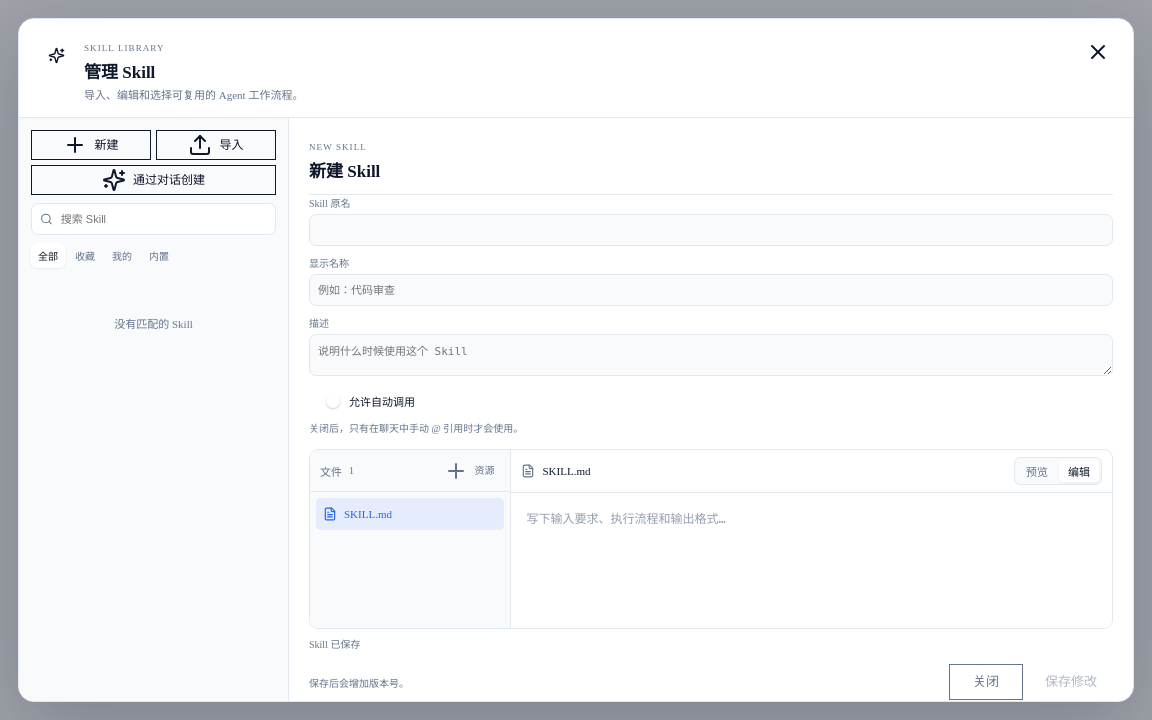
Test: SkillManager › replaces the folder entry with host conversation creation and reports failures
Click the button "通过对话创建": coordinates (154, 180) [31,165,276,195]
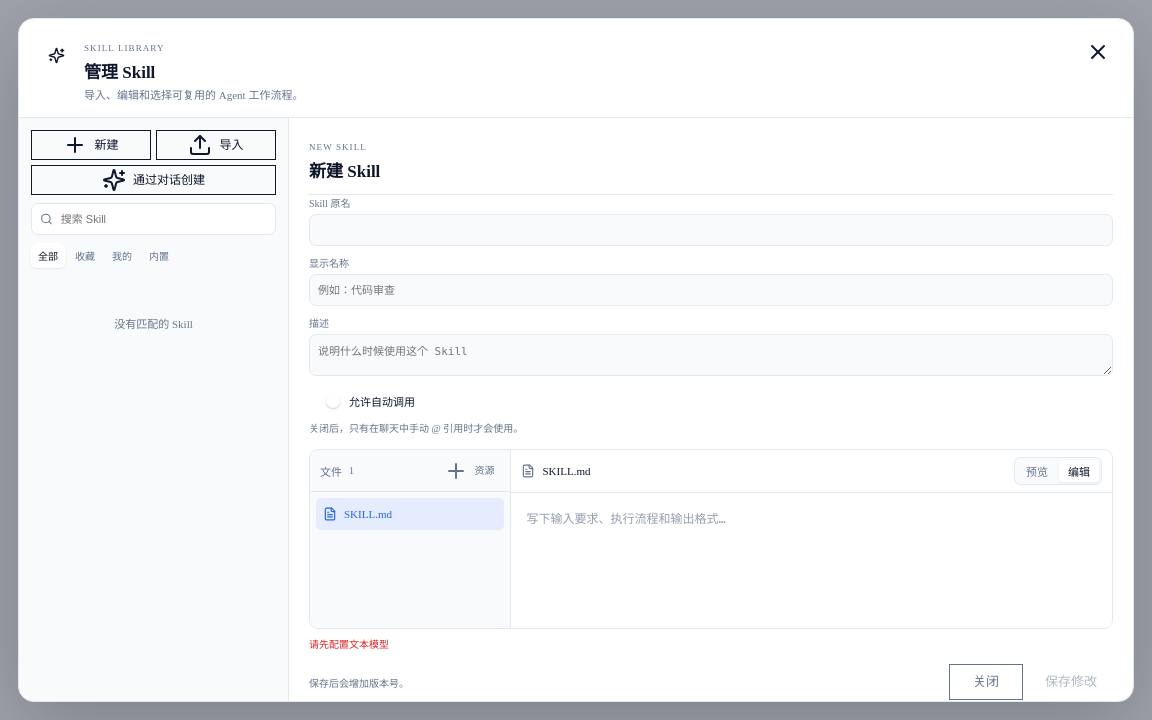
Expected: the message reads "请先配置文本模型", [309,639,389,650]
